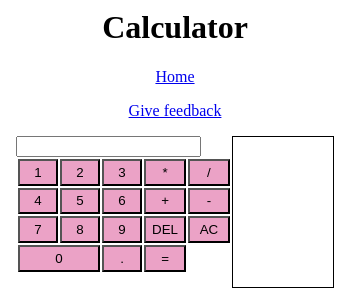
Test: Calculator gives correct results › Writes '3+3' and gets 6 as a result
Click the button "3".
click(122, 173)  # box [102,159,142,186]
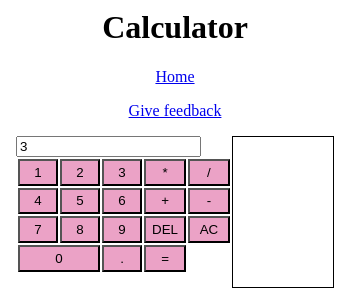
Click the button "+".
click(165, 202)  # box [144,188,186,215]
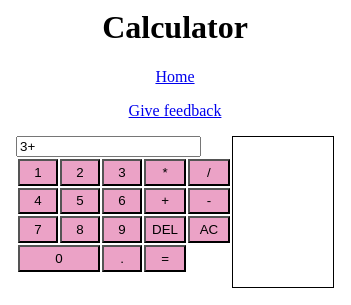
Click the button "3".
click(122, 173)  # box [102,159,142,186]
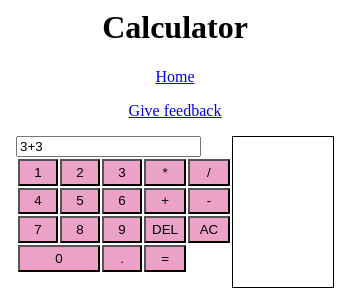
Click the button "=".
click(165, 259)  # box [144,245,186,272]
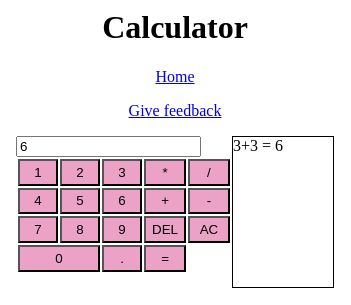
Now the field holds "6", box [16,136,201,157]
